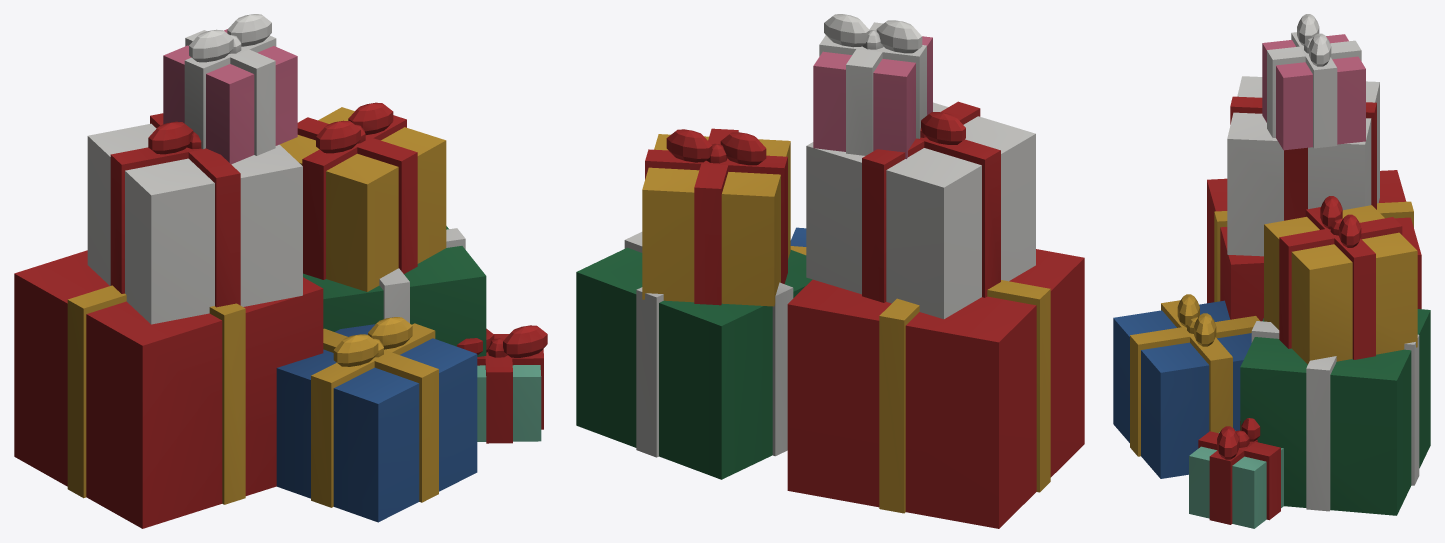
Rendered from xmas_gift_pile.glb.
3 renders of one model, left to right at view 1: azimuth 30°, elevation 25°; view 2: azimuth 150°, elevation 25°; view 3: azimuth 270°, elevation 25°, orthographic. The views are drawn at different scales.
Bounding box in the file's own units: 0.8652 × 0.791 × 0.5961.
